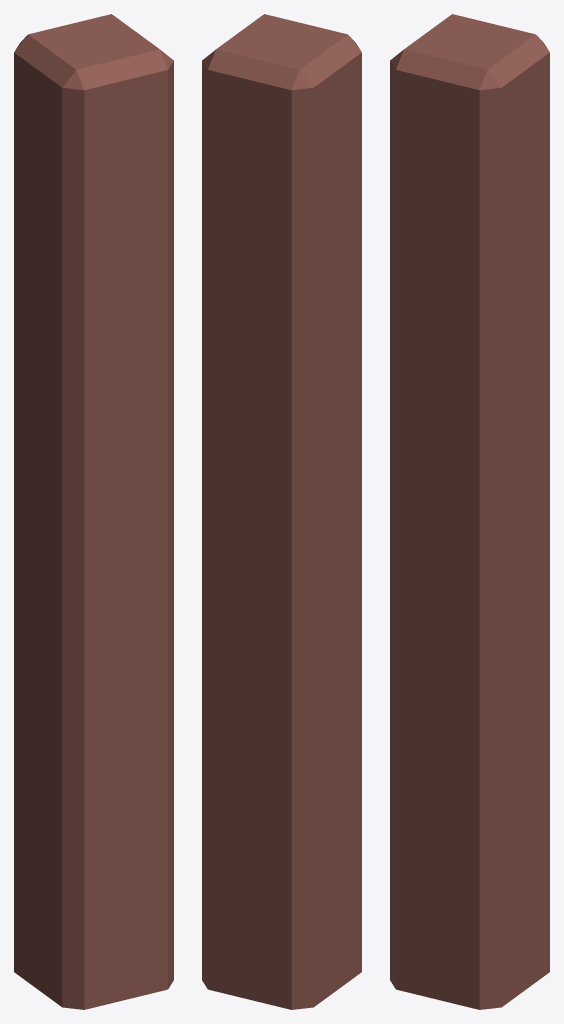
The model's file is Railing_Column.fbx.
3 views of the same model, side by side, from view 1: azimuth 30°, elevation 25°; view 2: azimuth 150°, elevation 25°; view 3: azimuth 330°, elevation 25° (orthographic).
Parts seen in each view (by area): view 1: Railing_Column; view 2: Railing_Column; view 3: Railing_Column.
Boxes of the visible parts, bbox=[...] form: Railing_Column: bbox=[14, 14, 173, 1009]; Railing_Column: bbox=[202, 14, 361, 1009]; Railing_Column: bbox=[390, 14, 549, 1009].
Size of the model in its own units: 0.12 by 0.12 by 0.96.
